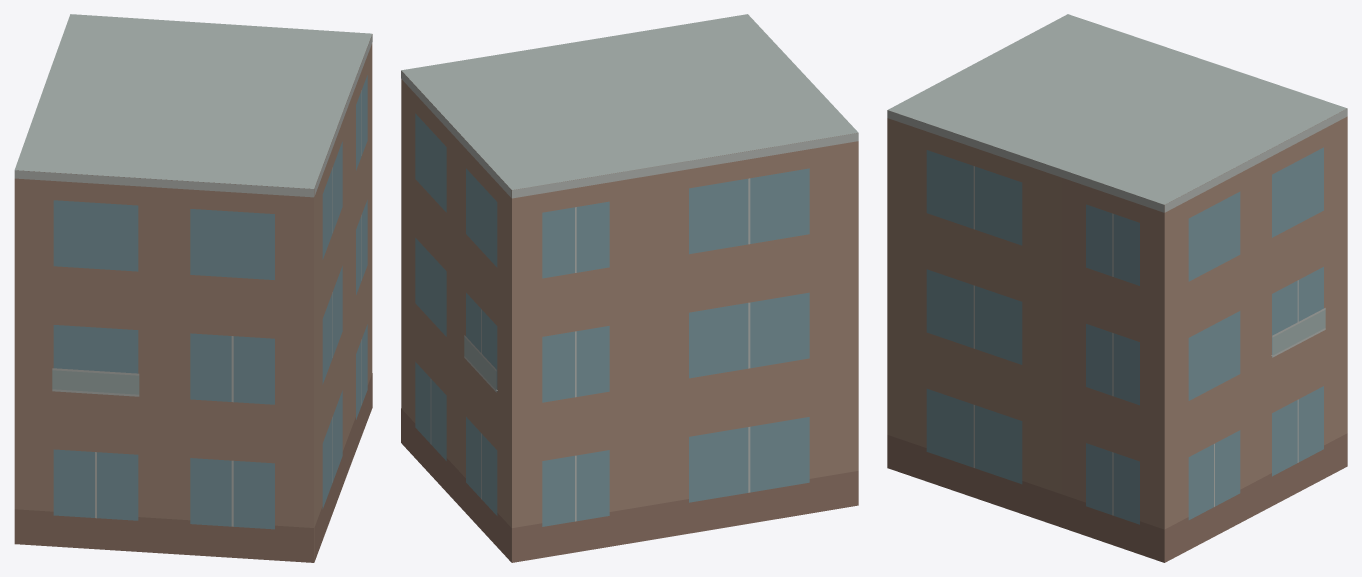
File: survey-upis-32473705.glb
The picture shows the model from 3 angles, left to right: view 1: azimuth 30°, elevation 25°; view 2: azimuth 150°, elevation 25°; view 3: azimuth 270°, elevation 25°; orthographic projection. The views are drawn at different scales.
Visible parts, largest first — view 1: survey-upis-32473705.tmp; view 2: survey-upis-32473705.tmp; view 3: survey-upis-32473705.tmp.
Part boxes in pixels (x1,y1,x2,y2): survey-upis-32473705.tmp: (14,14,372,562); survey-upis-32473705.tmp: (401,14,858,562); survey-upis-32473705.tmp: (887,14,1347,562).
Size of the model in its own units: 12.47 by 10.9 by 12.7.
